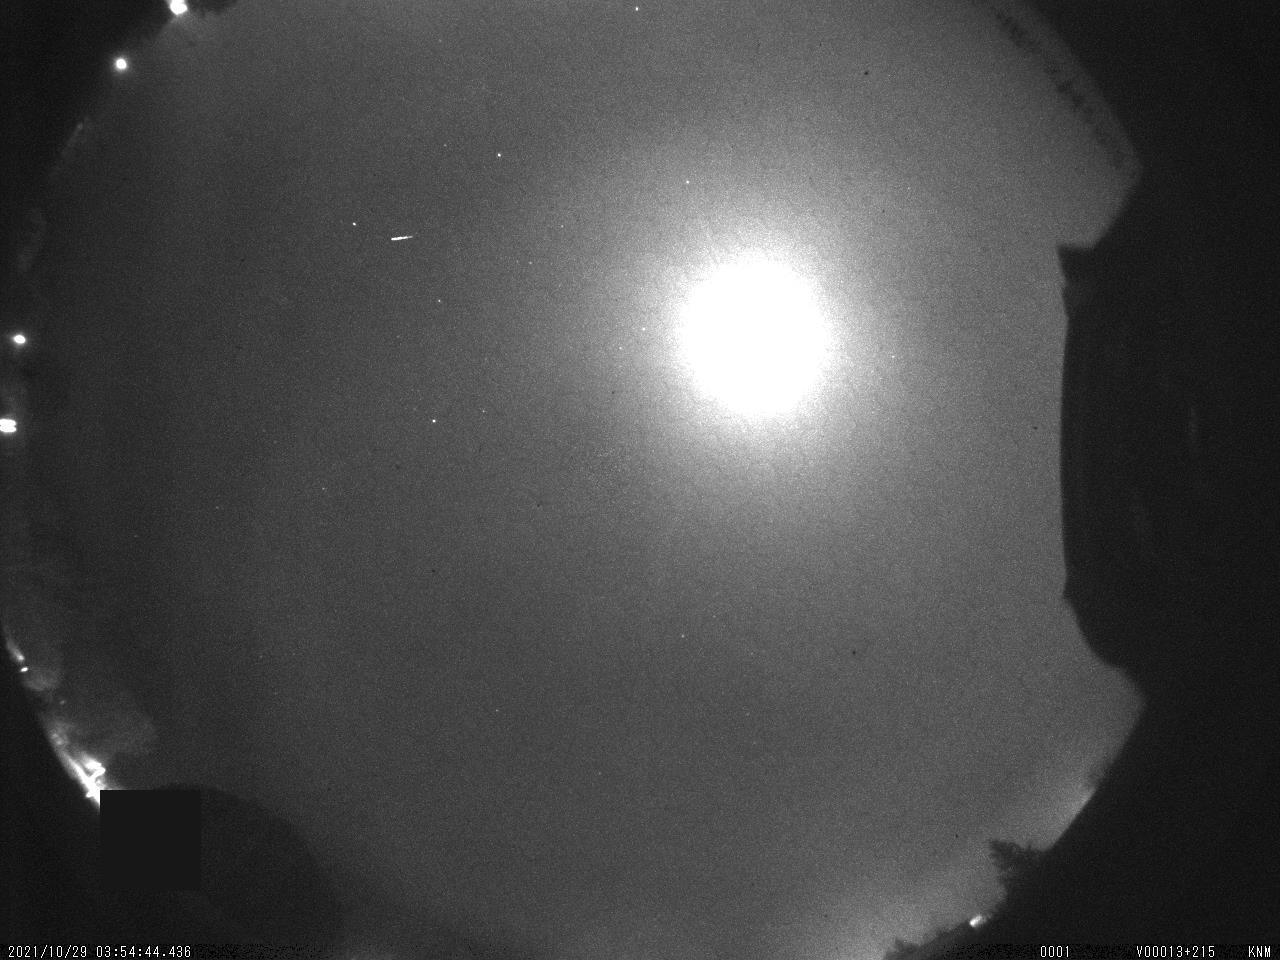Meteor: (385, 231, 416, 245)
